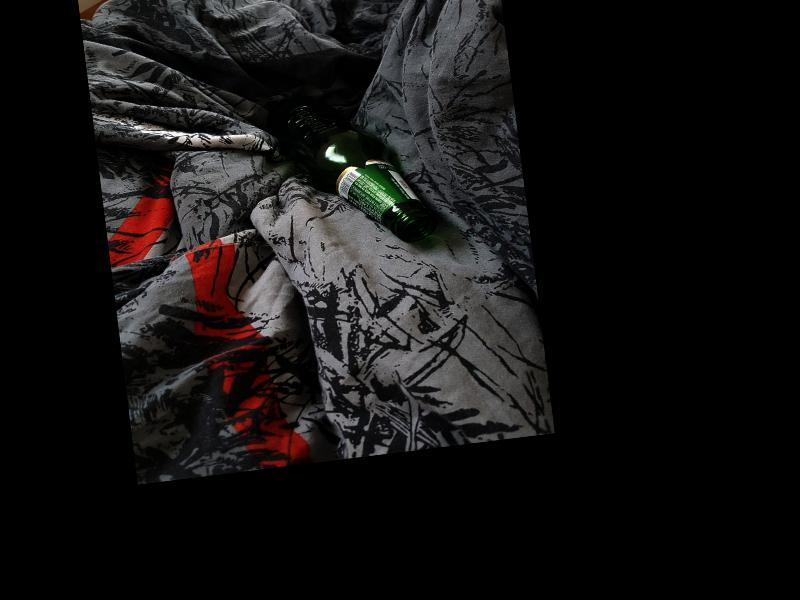Beer: (264, 82, 436, 259)
